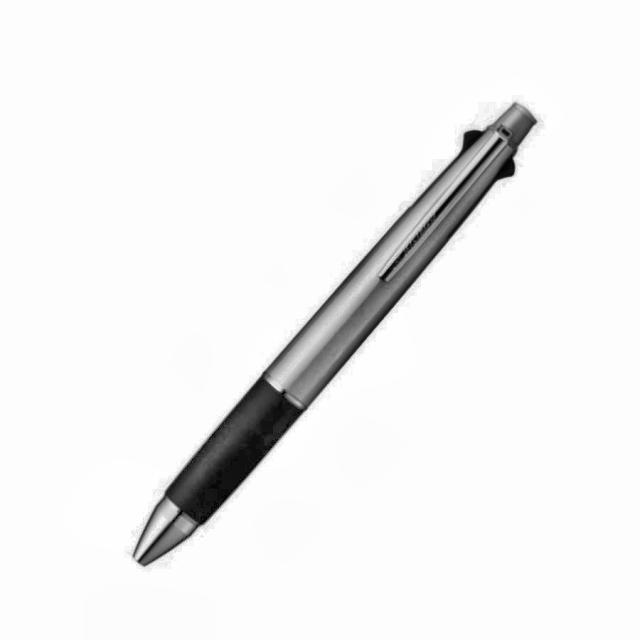Pen: (133, 103, 538, 566)
